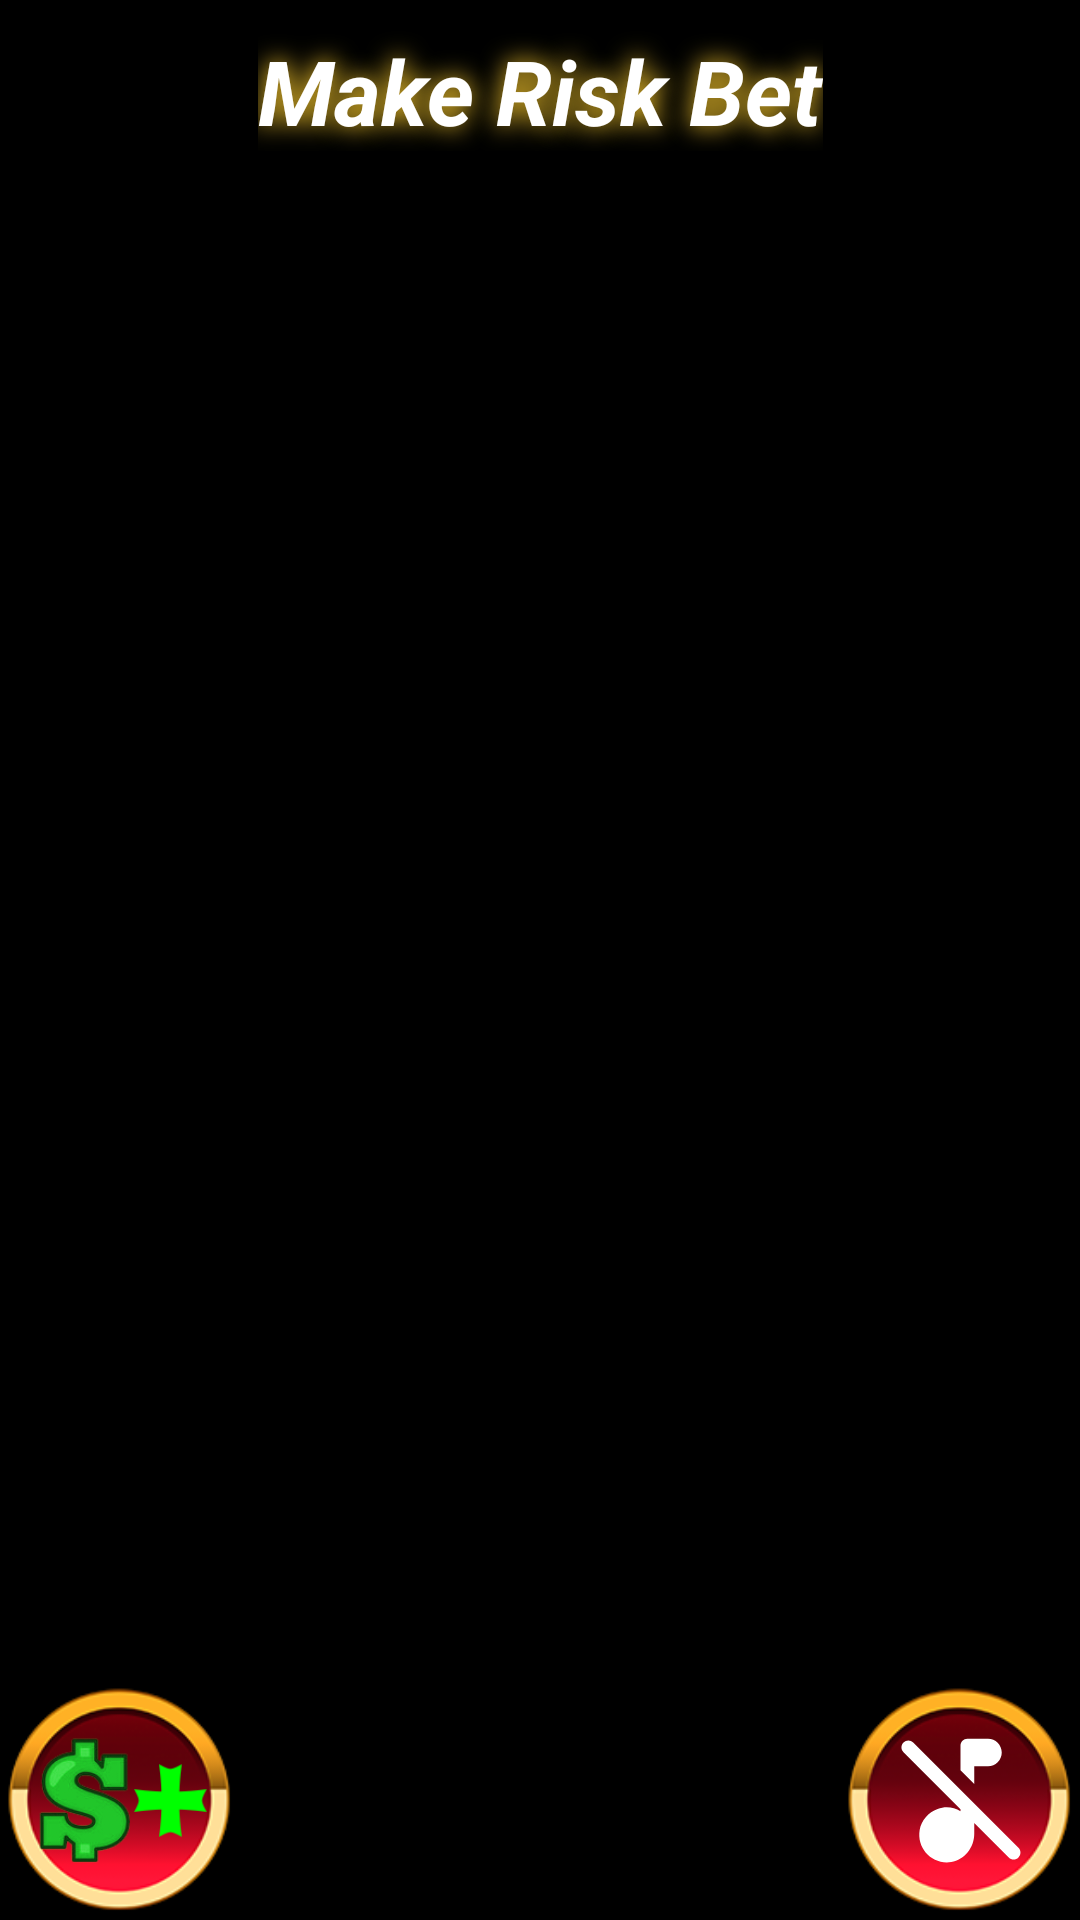

Where to tap for icons on this 1080x1920 app screen, as (x,y):
music off: (959,1799)
plus money: (119,1799)
